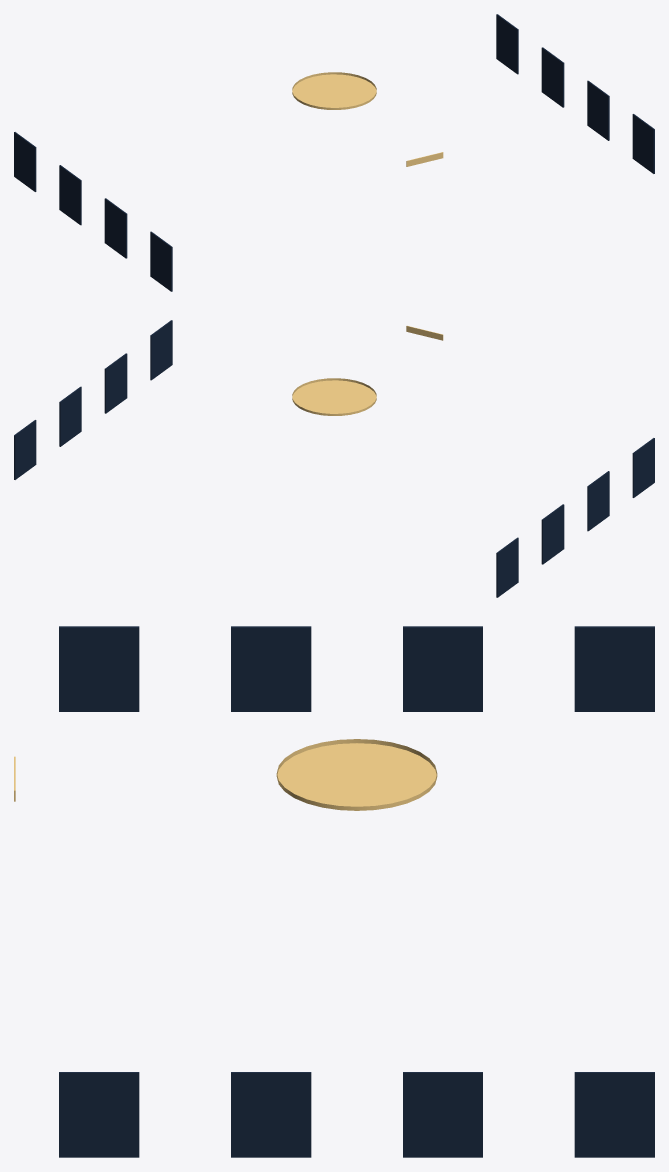
File: SM_Interior_obelisk_dining_NoCol.fbx
3 views of the same model, one above another, from view 1: azimuth 30°, elevation 25°; view 2: azimuth 150°, elevation 25°; view 3: azimuth 270°, elevation 25° (orthographic). The views are drawn at different scales.
Parts seen in each view (by area): view 1: SM_Interior_obelisk_dining_NoCol; view 2: SM_Interior_obelisk_dining_NoCol; view 3: SM_Interior_obelisk_dining_NoCol.
Part boxes in pixels (x1,y1,x2,y2): SM_Interior_obelisk_dining_NoCol: (14, 14, 654, 291); SM_Interior_obelisk_dining_NoCol: (14, 320, 654, 597); SM_Interior_obelisk_dining_NoCol: (14, 626, 654, 1157).
Size of the model in its own units: 13.84 by 2.33 by 8.39.
